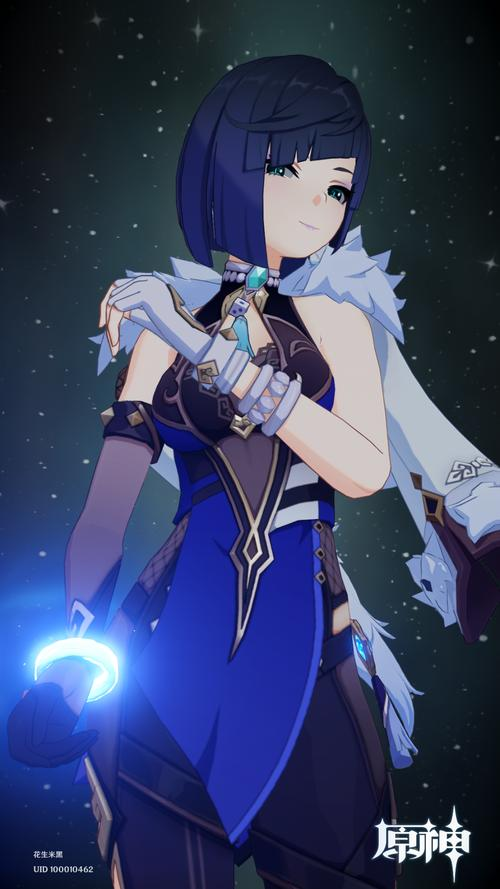夜兰: (7, 52, 411, 889)
